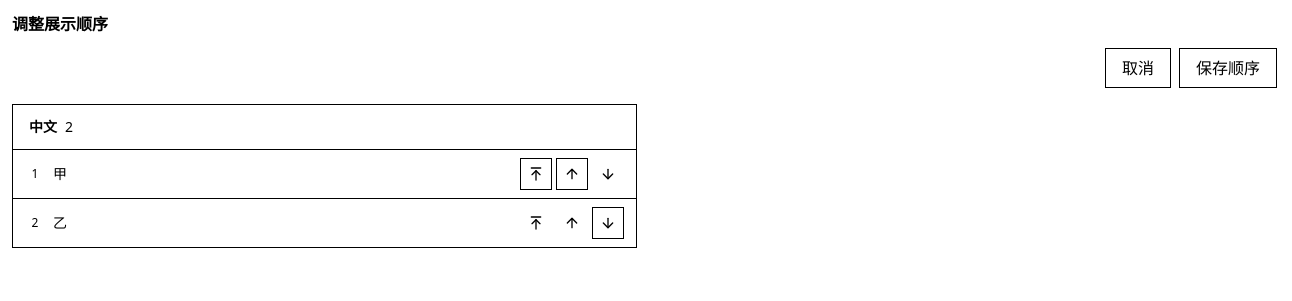
Test case: 确定失败保留草稿供重试，不误报目录变化或自动重载
Click the button named "乙置顶" at {"x": 536, "y": 223}, box [520, 207, 552, 239]
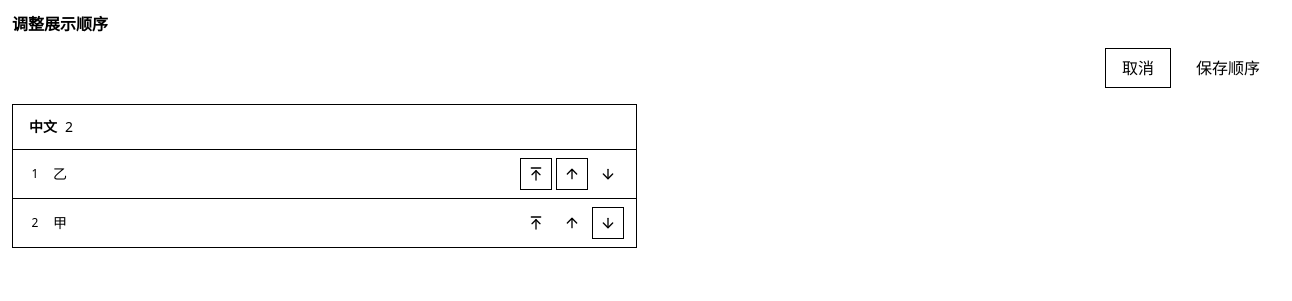
Click the button "保存顺序" at {"x": 1228, "y": 68}, box [1179, 48, 1277, 88]
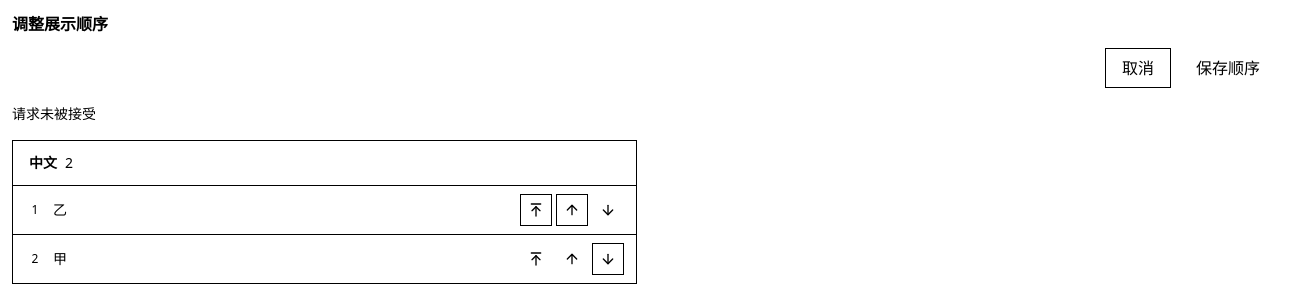
Now the text "请求未被接受" is shown, box [12, 104, 96, 123]
